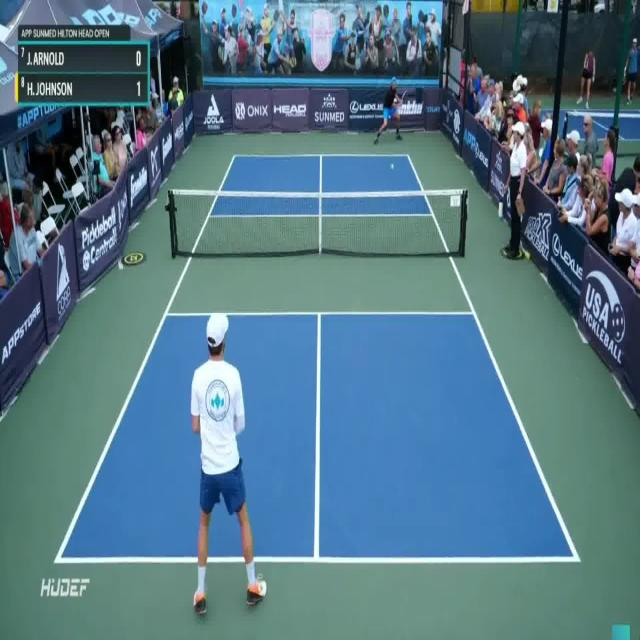Court: (57, 157, 578, 563)
ball: (388, 159, 397, 173)
